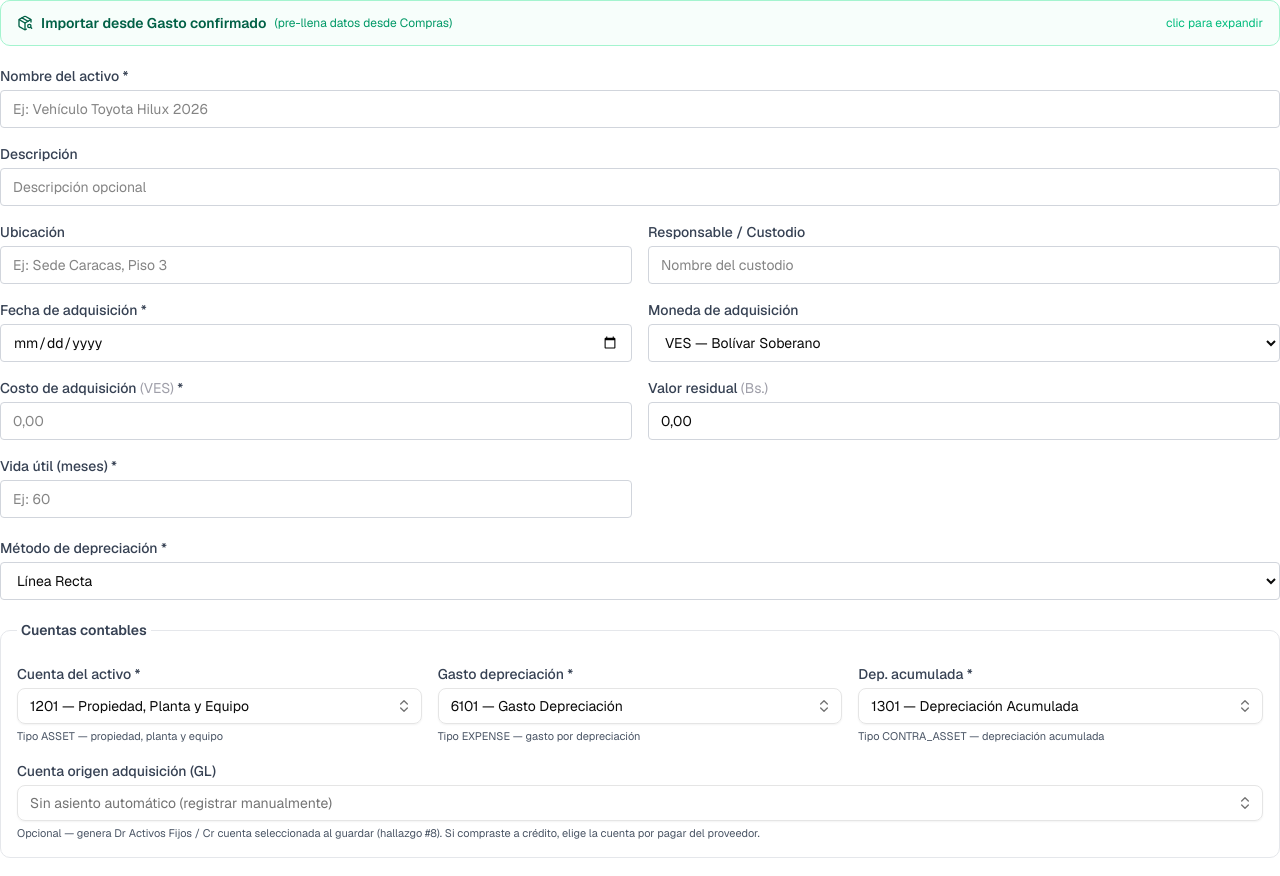
it: FixedAssetForm — smoke del refactor RHF (FC-03 + paridad FormData + N4) › N4: seleccionar gasto CONFIRMED pre-llena costo/fecha/factura/RIF/moneda SIN pisar el nombre ya tipeado
This screenshot has width=1280, height=876.
Type "Servidor HP" into the field with placeholder "Ej: Vehículo Toyota Hilux 2026" at coordinates (640, 109), box x1=0 y1=90 x2=1279 y2=128
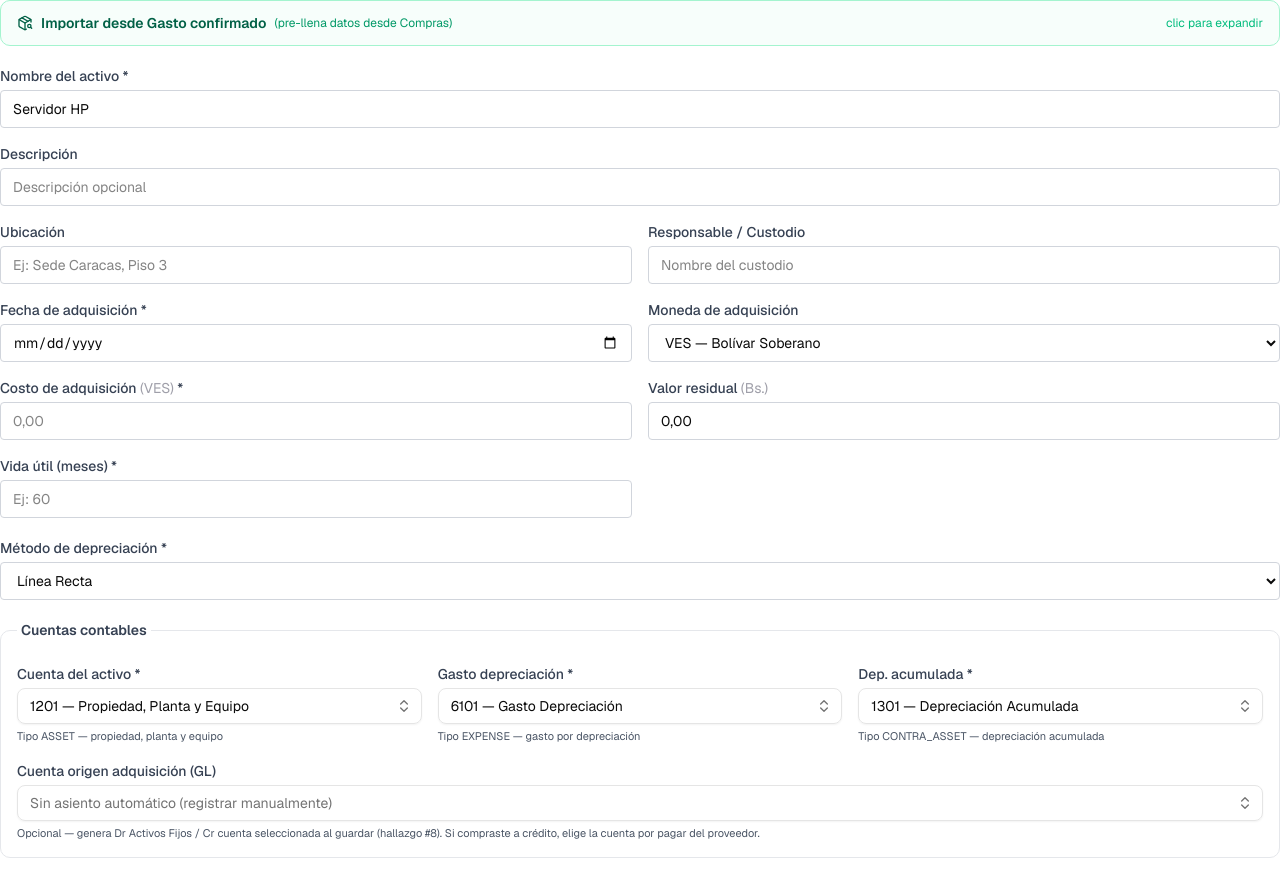
Abrir la sección de importación → fetch de gastos
Click the button "Importar desde Gasto confirmado" at coordinates (154, 23), box x1=1 y1=1 x2=1279 y2=45
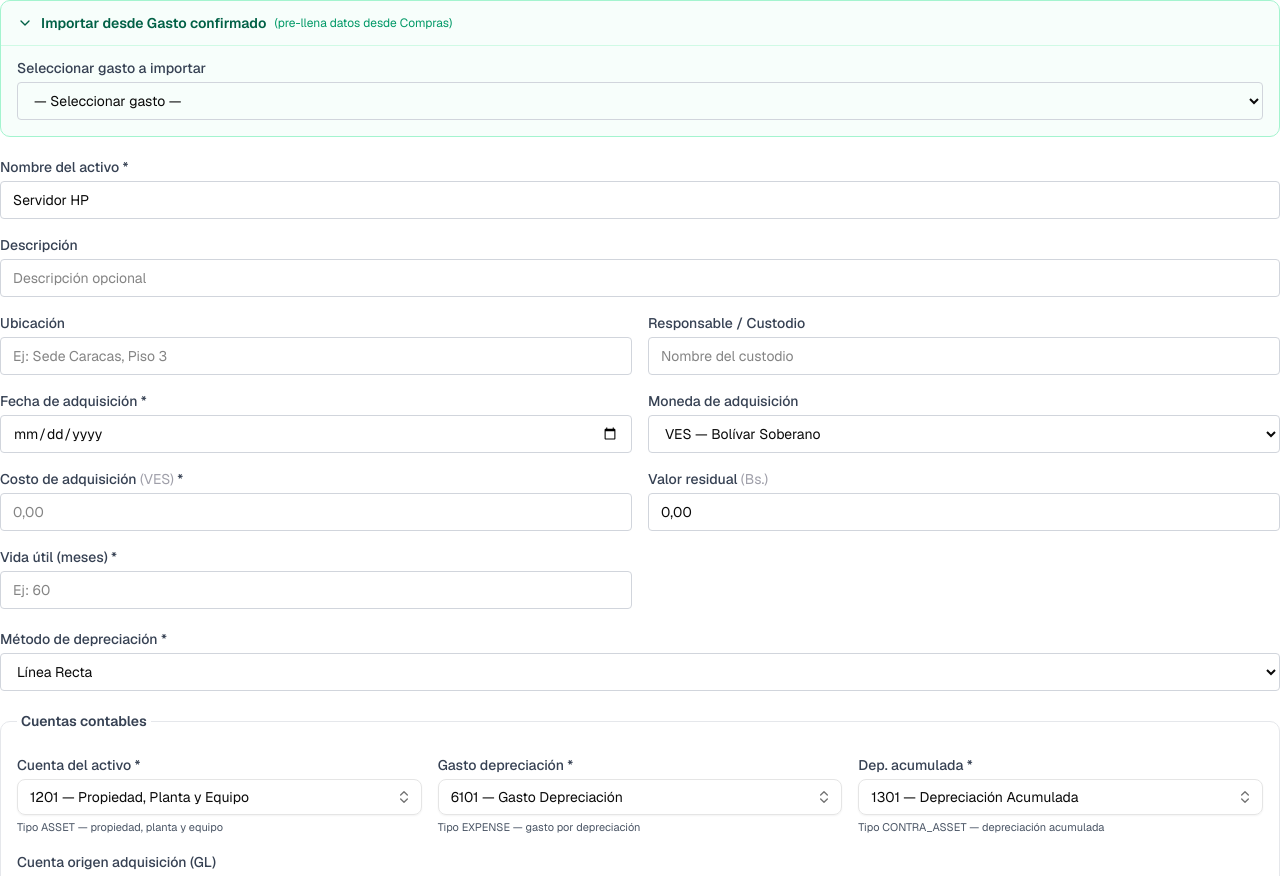
Select "[2026-05-10] Compra laptop Dell — USD 1,200.00 | Dell de Venezuela C.A." in the dropdown showing "— Seleccionar gasto —" below "Seleccionar gasto a importar" at coordinates (640, 101), box x1=17 y1=82 x2=1263 y2=120
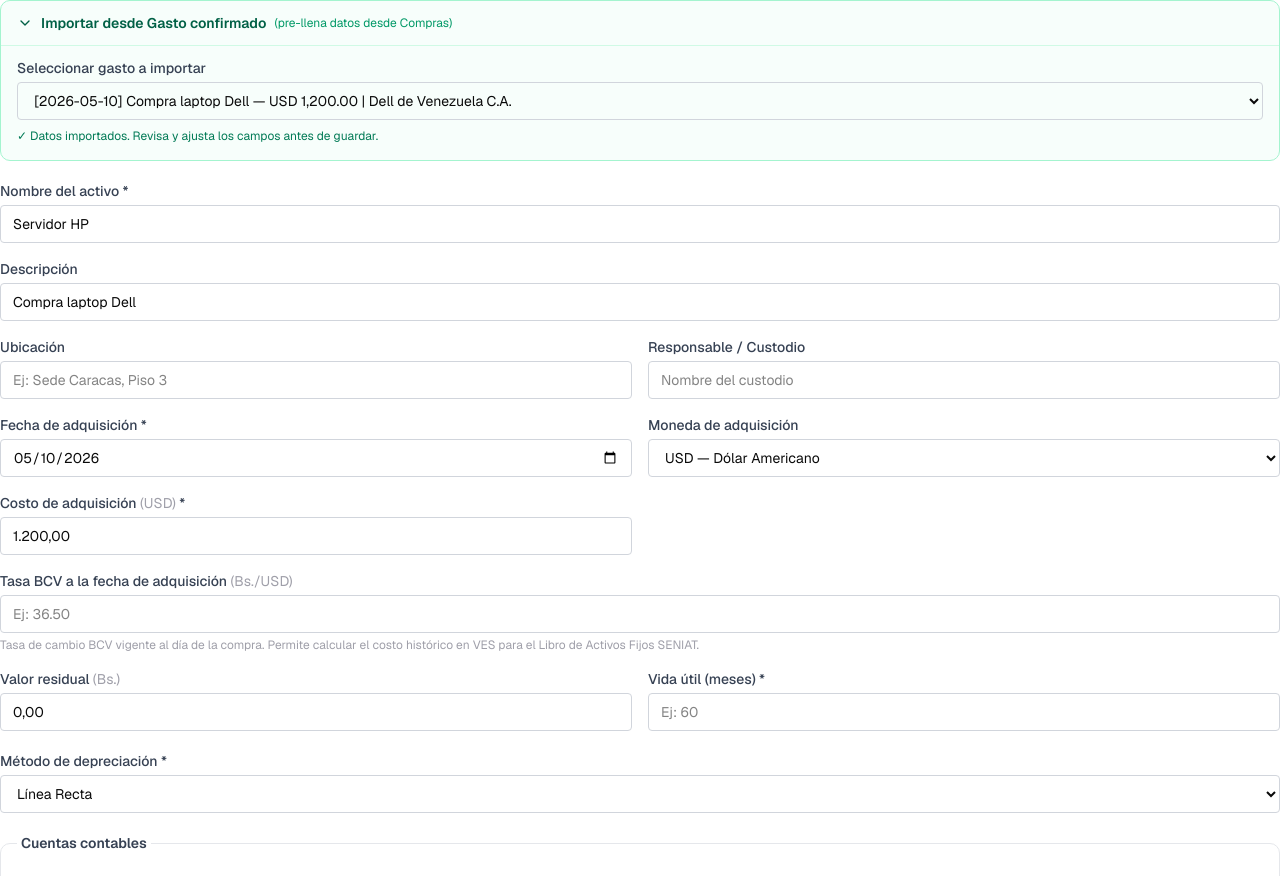
Check: the field with placeholder "0,00" below "Costo de adquisición" holds "1.200,00", box x1=0 y1=517 x2=632 y2=555
Check: the date field holds "2026-05-10", box x1=0 y1=439 x2=632 y2=477
Check: the dropdown below "Moneda de adquisición" shows "USD — Dólar Americano", box x1=648 y1=439 x2=1279 y2=477
